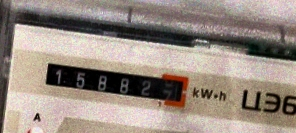1: (51, 66, 64, 85)
2: (138, 77, 152, 97)
5: (73, 70, 87, 88)
7: (160, 88, 173, 100)
8: (94, 72, 108, 91), (117, 75, 130, 94)
screen: (35, 50, 194, 115)
